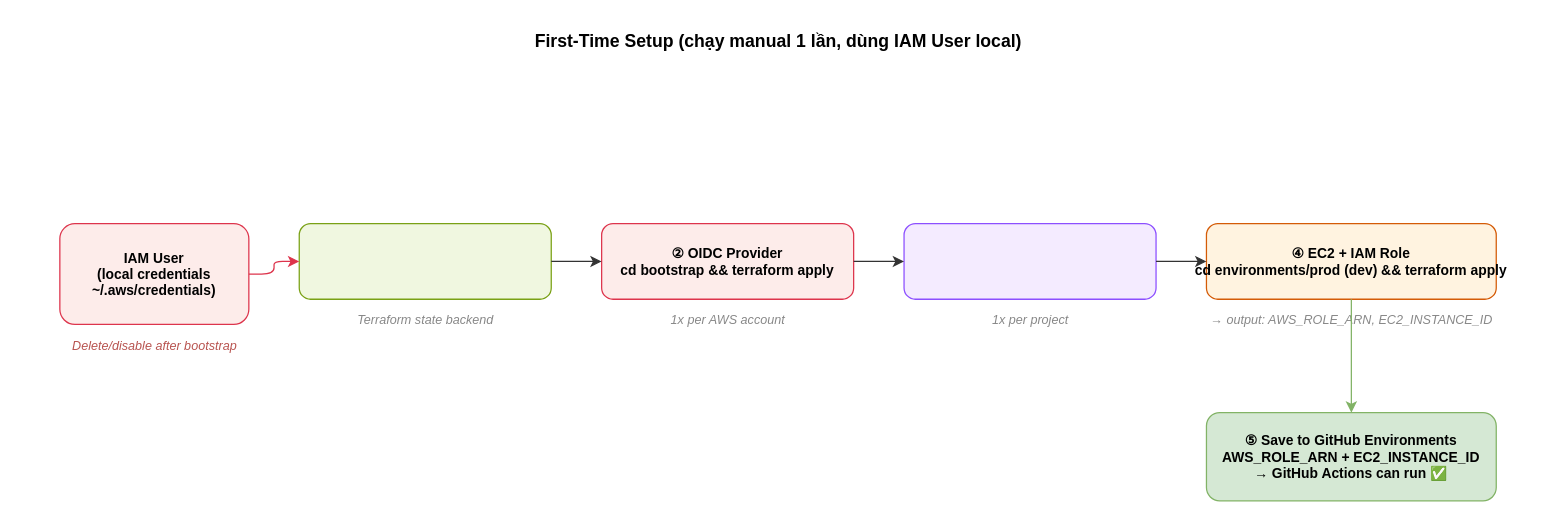
Some shapes in this 1555 by 523 pixel diagram are drawn without their labels. Here are the shapes that lost their labels. From the top down, the box of each, then its label:
(298, 222, 551, 299): ① S3 Bucket aws s3 mb s3://intrepid-terraform-state
(903, 222, 1156, 299): ③ VPC + Subnets cd shared && terraform apply
